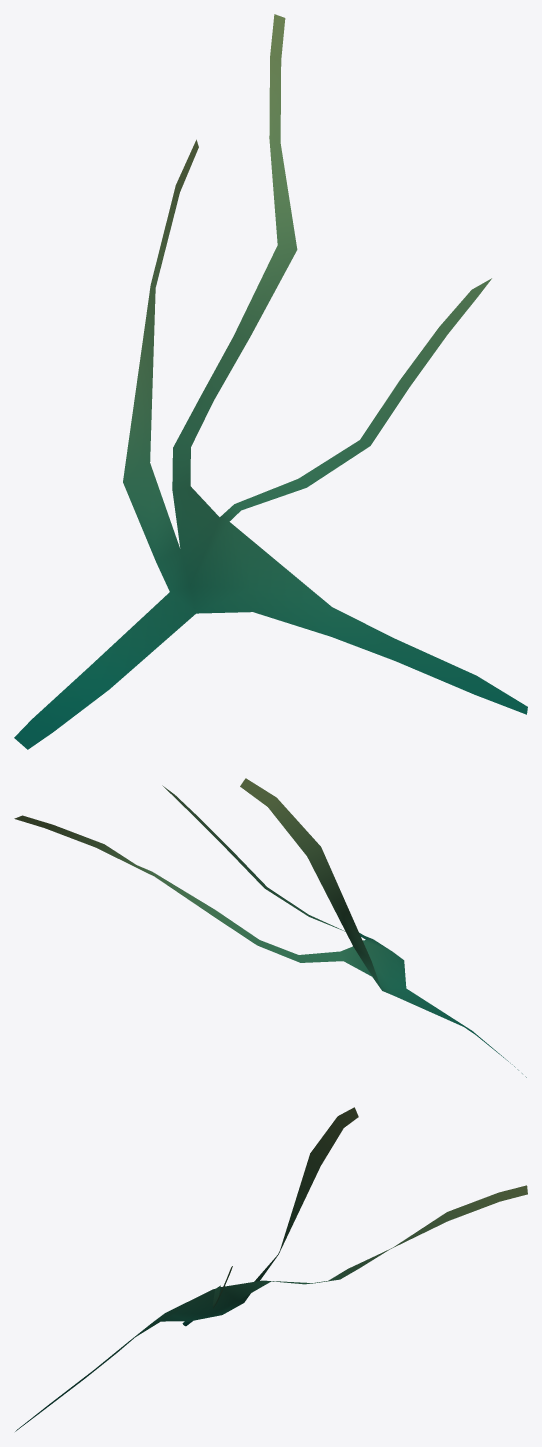
The model's file is grass_medium_01_16.glb.
3 views of the same model, one above another, from view 1: azimuth 30°, elevation 25°; view 2: azimuth 150°, elevation 25°; view 3: azimuth 270°, elevation 25° (orthographic). The views are drawn at different scales.
Visible parts, largest first — view 1: grass_medium_01_tiny_f_LOD0; view 2: grass_medium_01_tiny_f_LOD0; view 3: grass_medium_01_tiny_f_LOD0.
Boxes of the visible parts, <box> form: grass_medium_01_tiny_f_LOD0: <box>14,14,527,749</box>; grass_medium_01_tiny_f_LOD0: <box>14,778,526,1077</box>; grass_medium_01_tiny_f_LOD0: <box>15,1107,527,1431</box>.
Size of the model in its own units: 0.0552 by 0.0471 by 0.0689.
